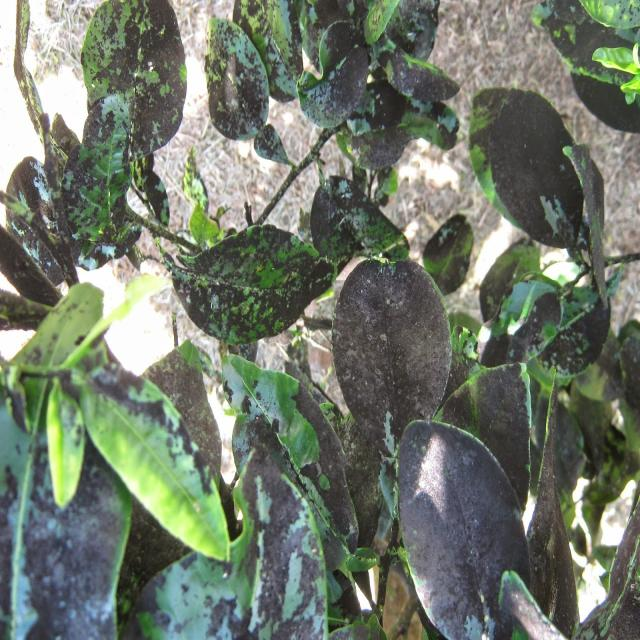Sooty Mold: (0, 25, 618, 640)
